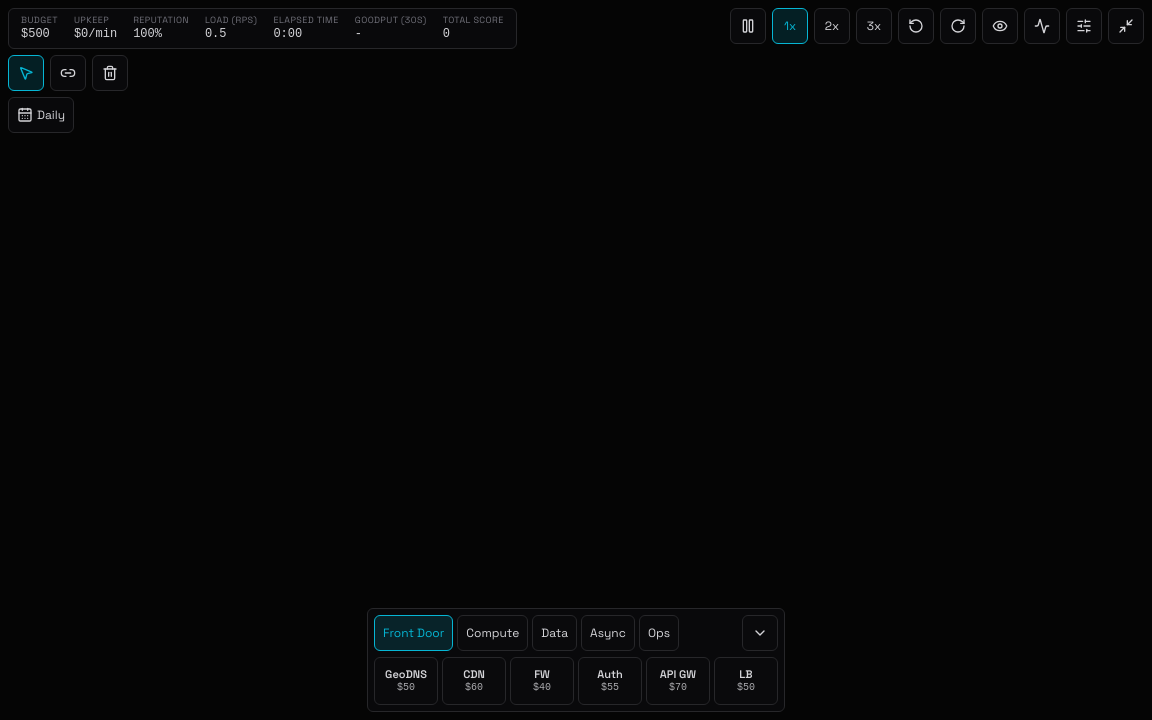
Failover touch targets › sizes the open build menu, its tabs and services, and the armed chip
Check: the number of tabs is 5, box x1=374 y1=615 x2=453 y2=651; x1=457 y1=615 x2=528 y2=651; x1=532 y1=615 x2=577 y2=651; x1=581 y1=615 x2=635 y2=651; x1=639 y1=615 x2=679 y2=651
Click the button "FW $40": (542, 681) x1=510 y1=657 x2=574 y2=705
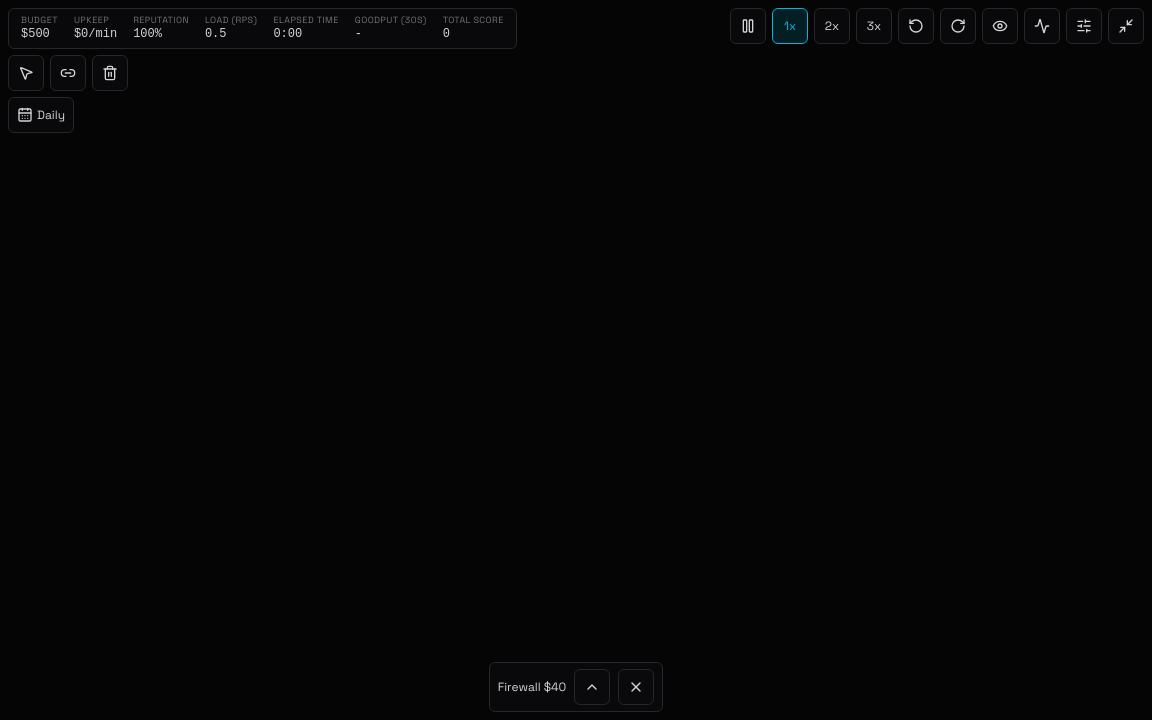
Check: the button named "Disarm" is shown
Click the button named "Disarm": (636, 687) x1=618 y1=669 x2=654 y2=705
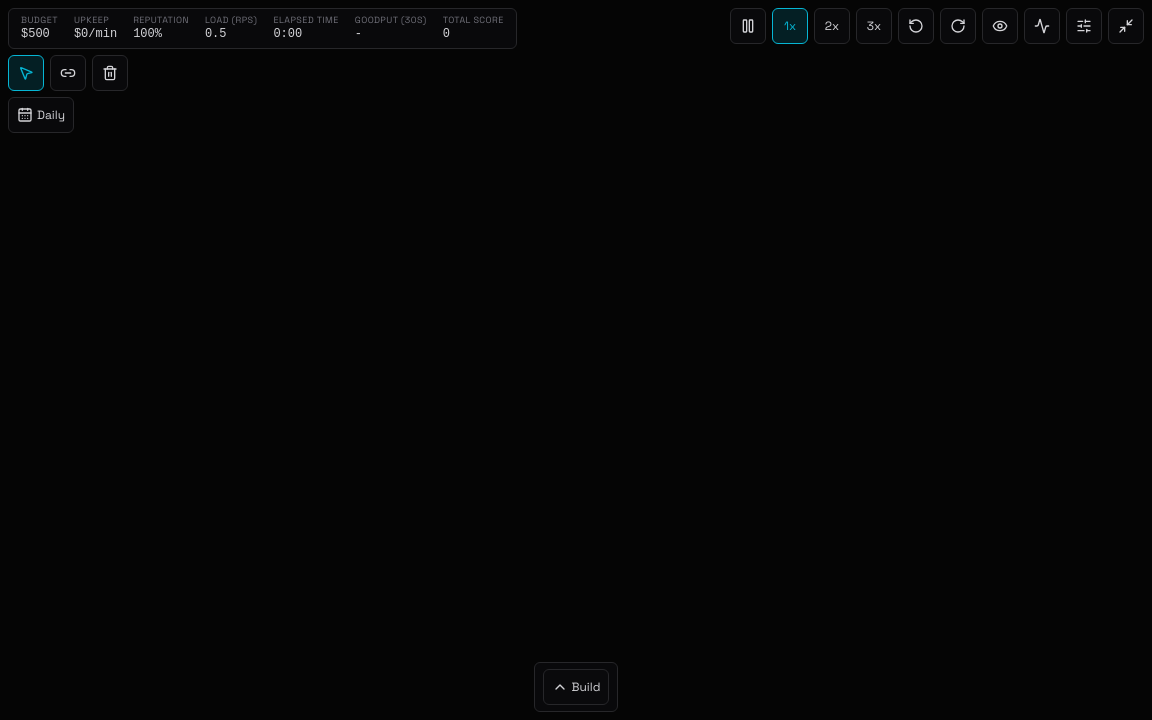
Check: the button "Build" is shown, box x1=542 y1=669 x2=609 y2=705
